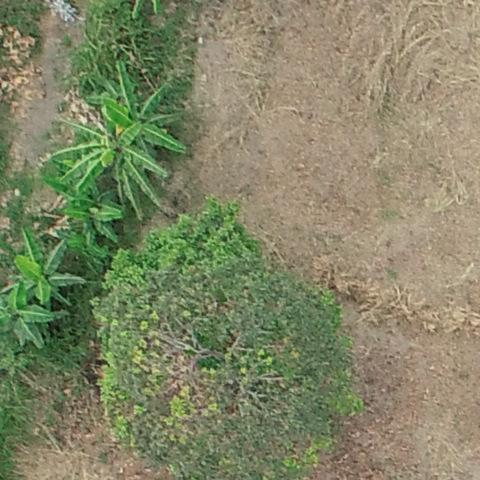Banana-plant: (62, 116, 172, 220), (96, 64, 181, 164), (12, 230, 88, 307), (51, 176, 128, 247), (0, 289, 64, 356)
